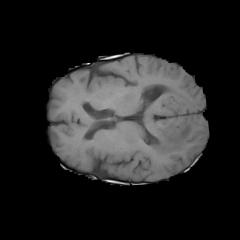glioma: (149, 121, 192, 156)
